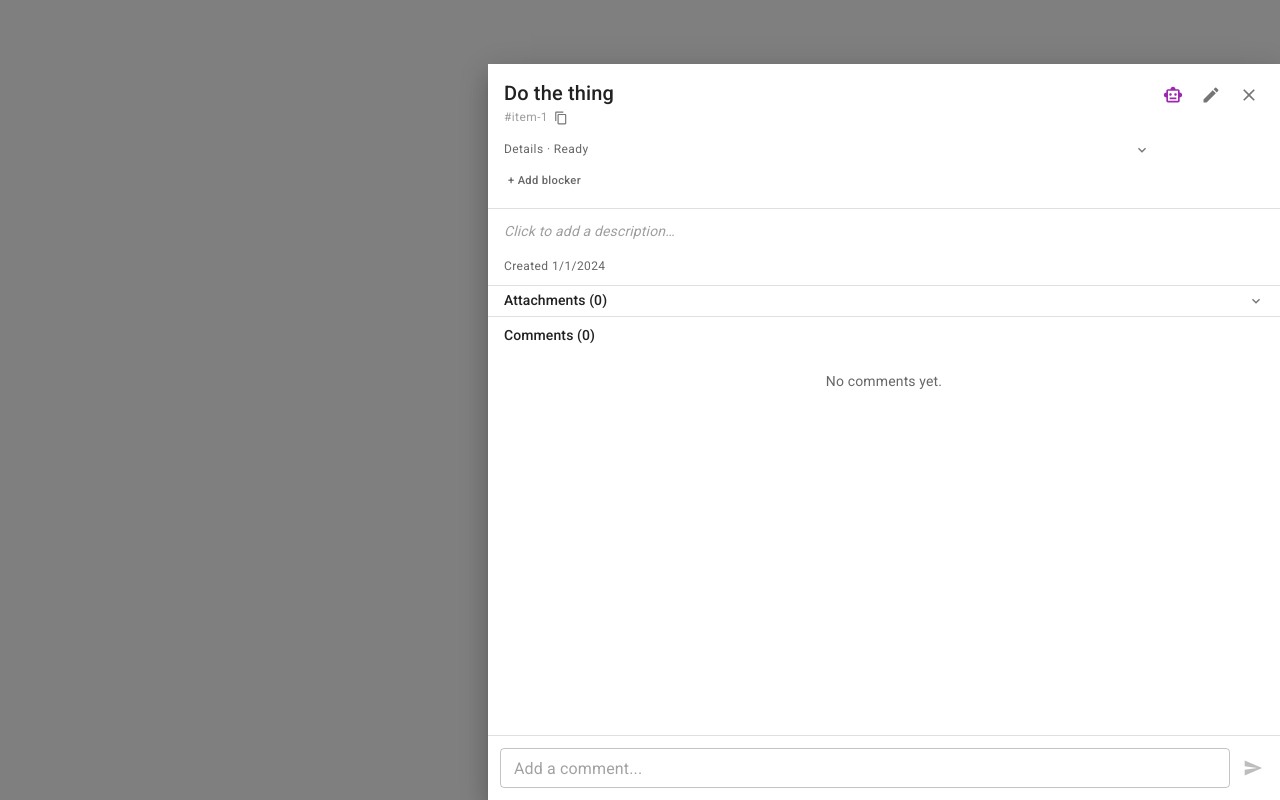
ItemDetailDrawer host Select drain indicator › renders the draining suffix for a host with a drainReason
Click the button with test id "SmartToyOutlinedIcon".
click(1173, 95)  # box [1158,80,1188,110]
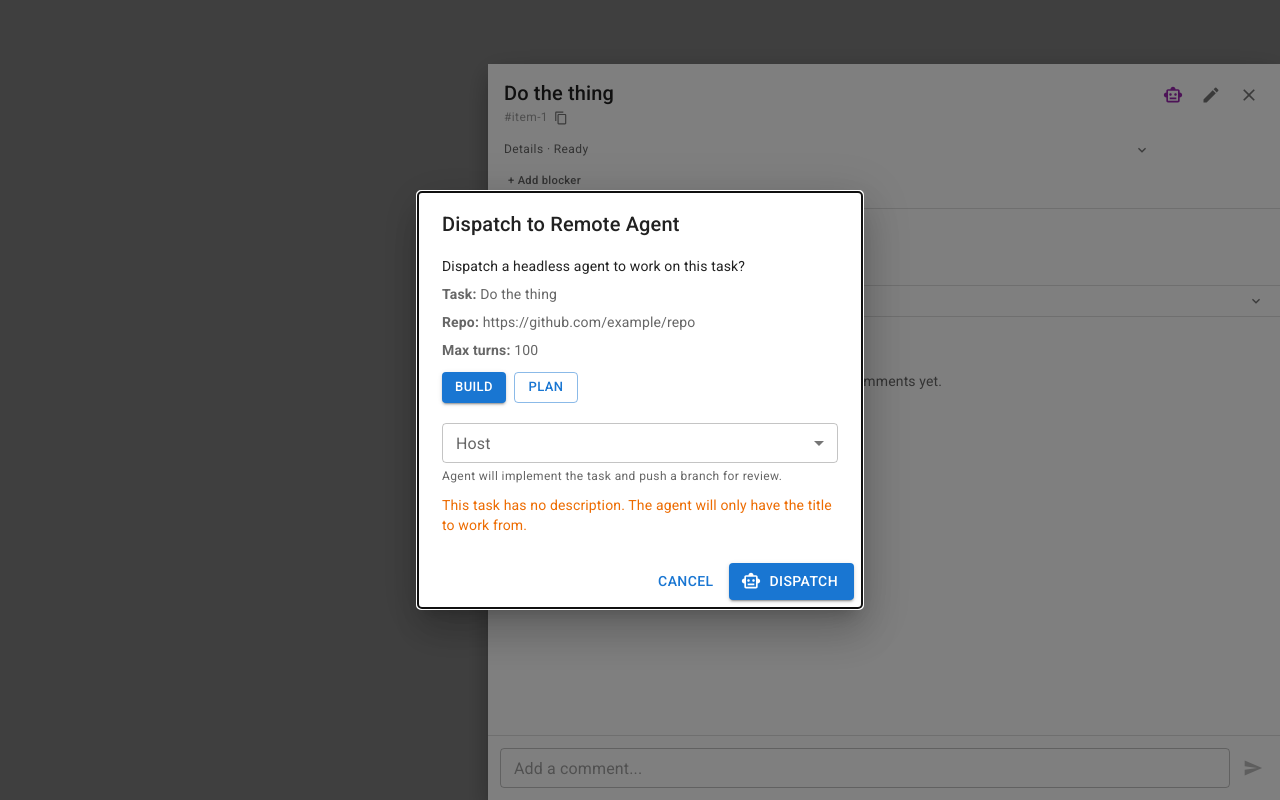
Now the heading "Dispatch to Remote Agent" is shown, box [442,212,680,236]
Click the dropdown.
click(640, 443)  # box [442,423,838,463]
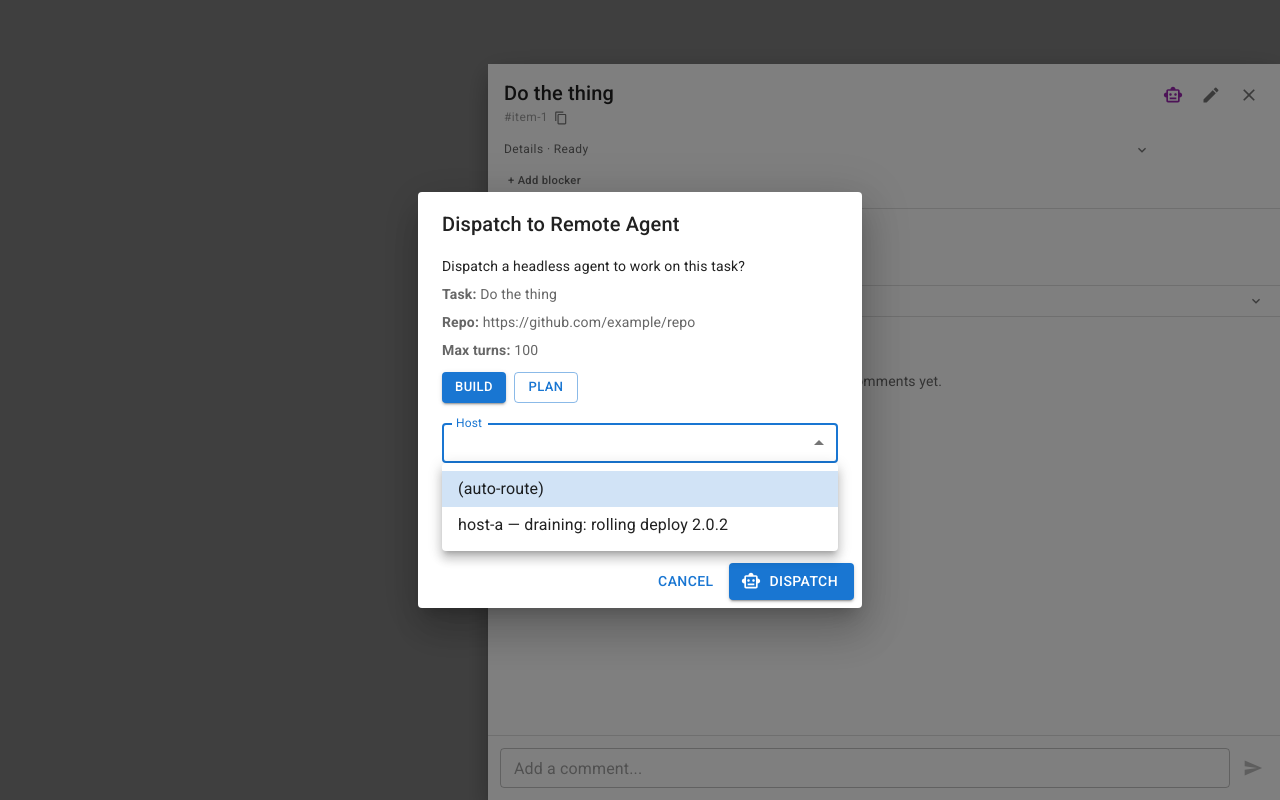
Now the option "host-a — draining: rolling deploy 2.0.2" is shown, box [458,515,728,534]
